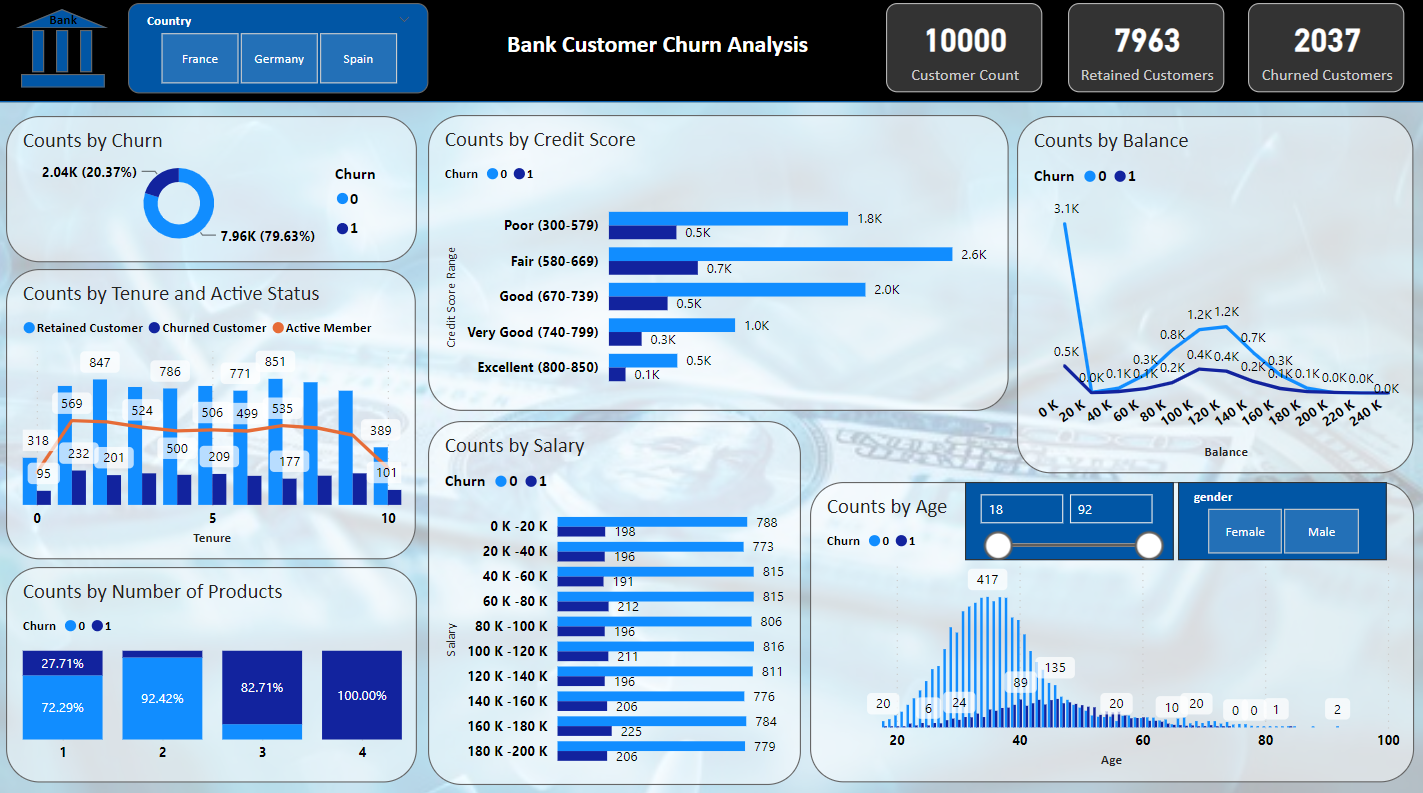

This screenshot's page, from the dashboard's own definition file:
{"tool":"powerbi","page":{"name":"Page 1","canvas":[1280,720],"ordinal":0},"visuals":[{"type":"shape","box":[15.3,14.9,84.2,17.4],"z":0,"group":"g1"},{"type":"lineClusteredColumnComboChart","title":"Counts by Tenure and Active Status","fields":{"Category":["Bank Customer Churn Prediction.tenure"],"Y2":["Sum(Bank_Churn.active_member)"],"Y":["Sum(Bank_Churn.no_churn)","Sum(Bank_Churn.churn)"]},"box":[7.2,248.2,367.5,260.2],"z":0},{"type":"shape","box":[0,0,1280,98.7],"z":1000},{"type":"shape","box":[30.4,33.6,10.9,37.8],"z":1000,"group":"g1"},{"type":"slicer","fields":{"Values":["Bank Customer Churn Prediction.country"]},"box":[116.2,10,268.8,81.2],"z":2000},{"type":"shape","box":[52.1,33.6,10.9,37.8],"z":2000,"group":"g1"},{"type":"group","id":"g1","title":"Group 1","box":[15.3,14.9,84.2,70.8],"z":3000},{"type":"shape","box":[73.9,33.6,10.9,37.8],"z":3000,"group":"g1"},{"type":"shape","box":[21,73.4,75.1,12.3],"z":4000,"group":"g1"},{"type":"clusteredBarChart","title":"Counts by Credit Score","fields":{"Category":["Bank_Churn.cr_score_range"],"Series":["Bank_Churn.churn"],"Y":["CountNonNull(Bank_Churn.customer_id)"]},"box":[385,110,520,265],"z":4000},{"type":"clusteredBarChart","title":"Counts by Salary","fields":{"Category":["Bank_Churn.salary_range"],"Series":["Bank_Churn.churn"],"Y":["CountNonNull(Bank_Churn.customer_id)"]},"box":[385,383.8,333.8,326.2],"z":5000},{"type":"lineClusteredColumnComboChart","title":"Counts  by Age","fields":{"Category":["Bank_Churn.age"],"Y":["Sum(Bank_Churn.no_churn)","Sum(Bank_Churn.churn)"]},"box":[727.5,438.8,541.2,268.8],"z":6000},{"type":"slicer","fields":{"Values":["Bank Customer Churn Prediction.gender"]},"box":[1056.6,438.6,186.7,69.9],"z":7000},{"type":"donutChart","title":"Counts by Churn","fields":{"Y":["CountNonNull(Bank_Churn.customer_id)"],"Category":["Bank_Churn.churn"]},"box":[7.5,111.2,367.5,131.2],"z":8000},{"type":"hundredPercentStackedColumnChart","title":"Counts by Number of Products","fields":{"Category":["Bank_Churn.products_number"],"Y":["Sum(Bank_Churn.no_churn)","Sum(Bank_Churn.churn)"]},"box":[7.5,515,367.5,192.5],"z":9000},{"type":"lineChart","title":"Counts by Balance","fields":{"Category":["Bank_Churn.balance_range"],"Y":["Sum(Bank_Churn.no_churn)","Sum(Bank_Churn.churn)"]},"box":[912.5,111.2,355,320],"z":10000},{"type":"card","title":"Patients Counts","fields":{"Values":["Sum(Bank_Churn.no_churn)"]},"box":[958.1,9.6,140,80],"z":11000},{"type":"card","title":"Patients Counts","fields":{"Values":["Sum(Bank_Churn.churn)"]},"box":[1119.6,9.6,140,80],"z":12000},{"type":"card","title":"Patients Counts","fields":{"Values":["CountNonNull(Bank_Churn.customer_id)"]},"box":[795.2,9.6,139.8,79.5],"z":13000},{"type":"slicer","fields":{"Values":["Bank_Churn.age"]},"box":[866.3,438.6,186.7,69.9],"z":14000},{"type":"textbox","box":[431.3,28.9,318.1,39.8],"z":15000},{"type":"textbox","box":[31.3,9.6,54.2,30.1],"z":15001}]}

Visuals, with their boxes in screenshot pixels (x1, y1, x2, y2), scaled from the page's 1280x720 canvas onto the 1423x793 screenshot:
shape: 17 16 111 36
"Counts by Tenure and Active Status" lineClusteredColumnComboChart: 8 273 417 560
shape: 0 0 1422 109
shape: 34 37 46 79
slicer - Bank Customer Churn Prediction.country: 129 11 428 100
shape: 58 37 70 79
"Group 1" group: 17 16 111 94
shape: 82 37 94 79
shape: 23 81 107 94
"Counts by Credit Score" clusteredBarChart: 428 121 1006 413
"Counts by Salary" clusteredBarChart: 428 423 799 782
"Counts  by Age" lineClusteredColumnComboChart: 809 483 1410 779
slicer - Bank Customer Churn Prediction.gender: 1175 483 1382 560
"Counts by Churn" donutChart: 8 122 417 267
"Counts by Number of Products" hundredPercentStackedColumnChart: 8 567 417 779
"Counts by Balance" lineChart: 1014 122 1409 475
"Patients Counts" card: 1065 11 1221 99
"Patients Counts" card: 1245 11 1400 99
"Patients Counts" card: 884 11 1039 98
slicer - Bank_Churn.age: 963 483 1171 560
textbox: 479 32 833 76
textbox: 35 11 95 44
